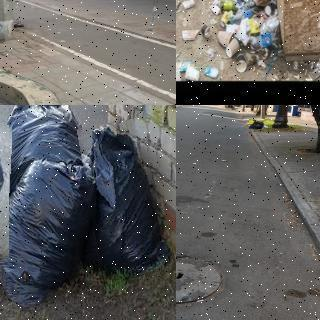Garbage: (0, 152, 101, 306), (84, 119, 170, 280), (0, 105, 93, 186), (249, 119, 264, 129)
